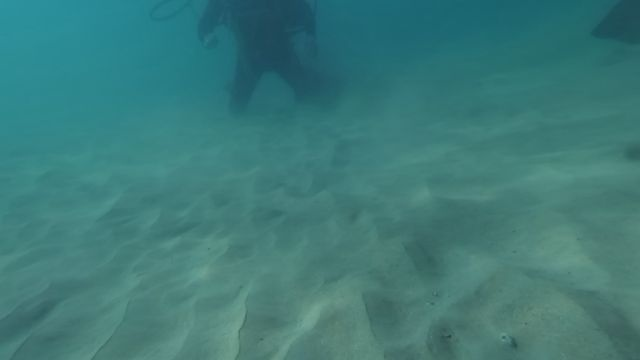Diver: (184, 0, 349, 108)
